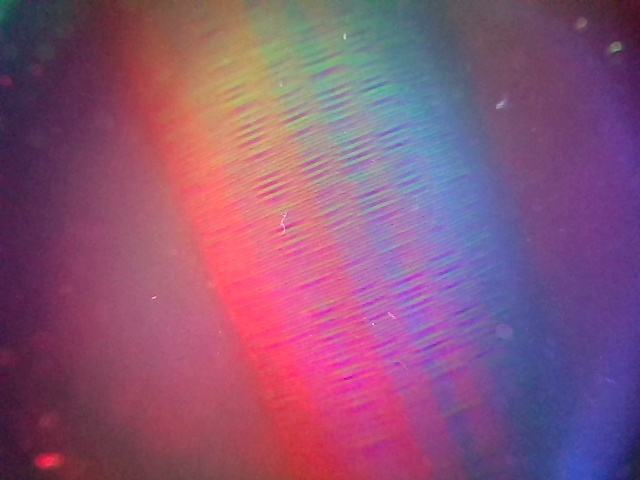contact: (102, 4, 570, 478)
